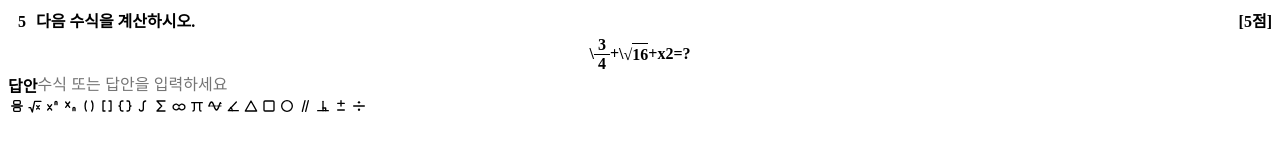
MathEquationItem › parses fraction, sqrt, superscript, and subscript tokens into semantic math DOM and syncs with MathSymbolToolbar
Expected: the element showing "3 4" is shown, [594,36,610,73]
Expected: the element showing "√ 16" is shown, [624,43,648,66]
Click the button named "분수 (a/b)" at (17, 106), box [8,97,26,115]
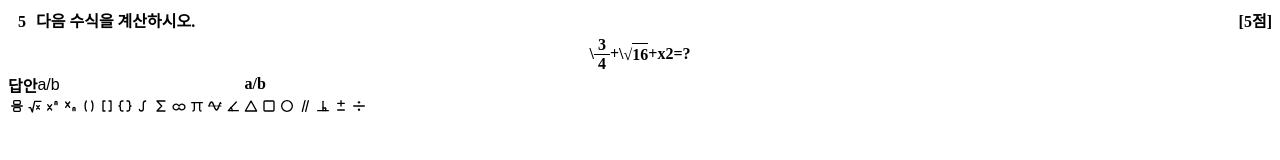
Expected: the field named "수식 답안 입력" holds "a/b", [38,76,244,94]
